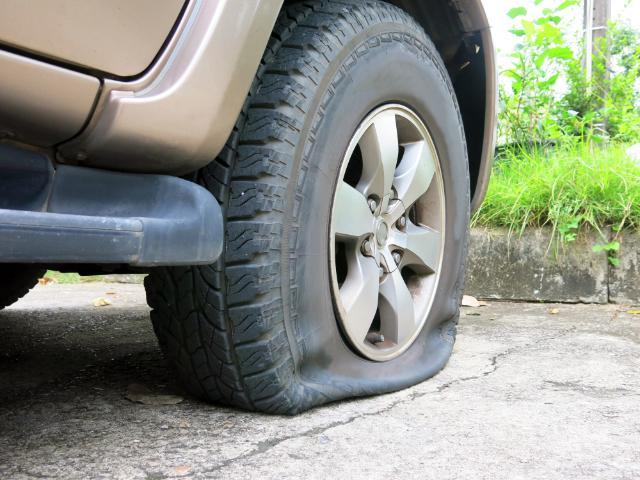tire flat: (142, 0, 470, 419)
